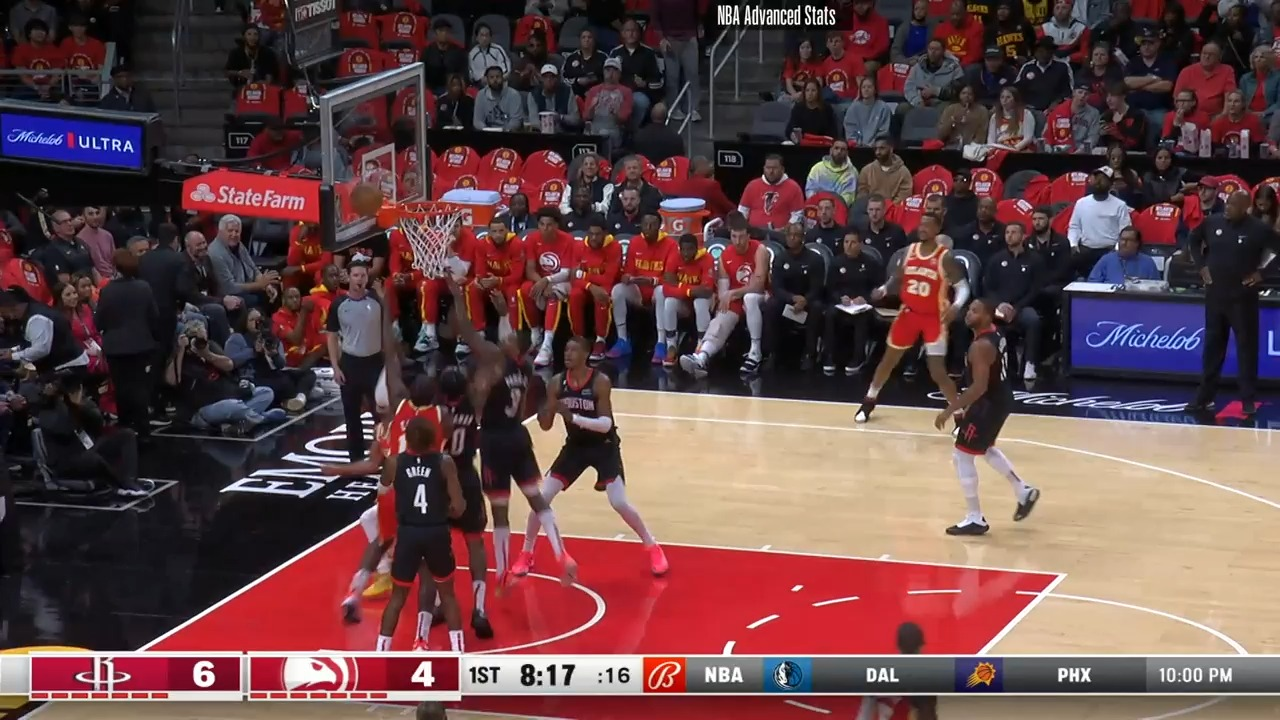net: (379, 191, 468, 276)
player: (447, 272, 578, 591), (338, 288, 456, 625), (527, 335, 669, 584), (931, 291, 1041, 543), (848, 209, 963, 428), (366, 408, 466, 656), (425, 309, 498, 639)
referee: (333, 265, 411, 467)
